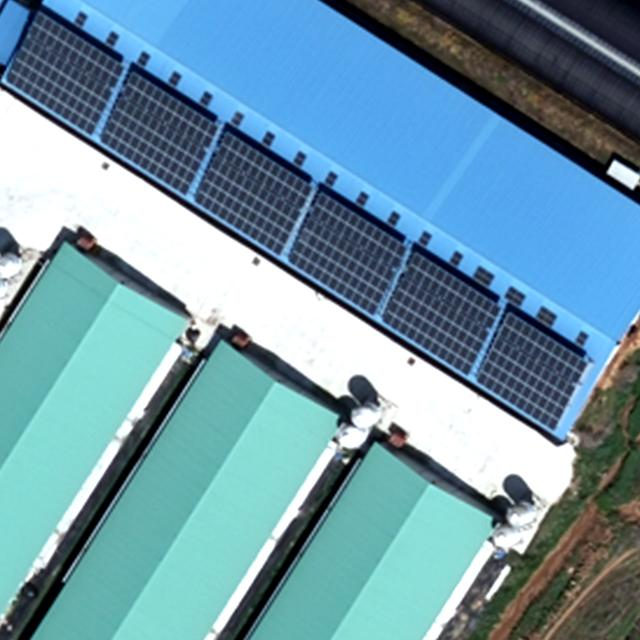panel: (281, 182, 408, 321), (378, 246, 503, 382), (97, 65, 220, 202), (1, 4, 120, 144), (191, 126, 306, 260), (469, 312, 591, 433)
